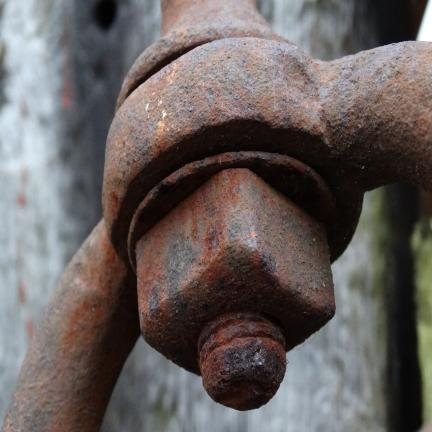karat: (4, 0, 431, 431)
